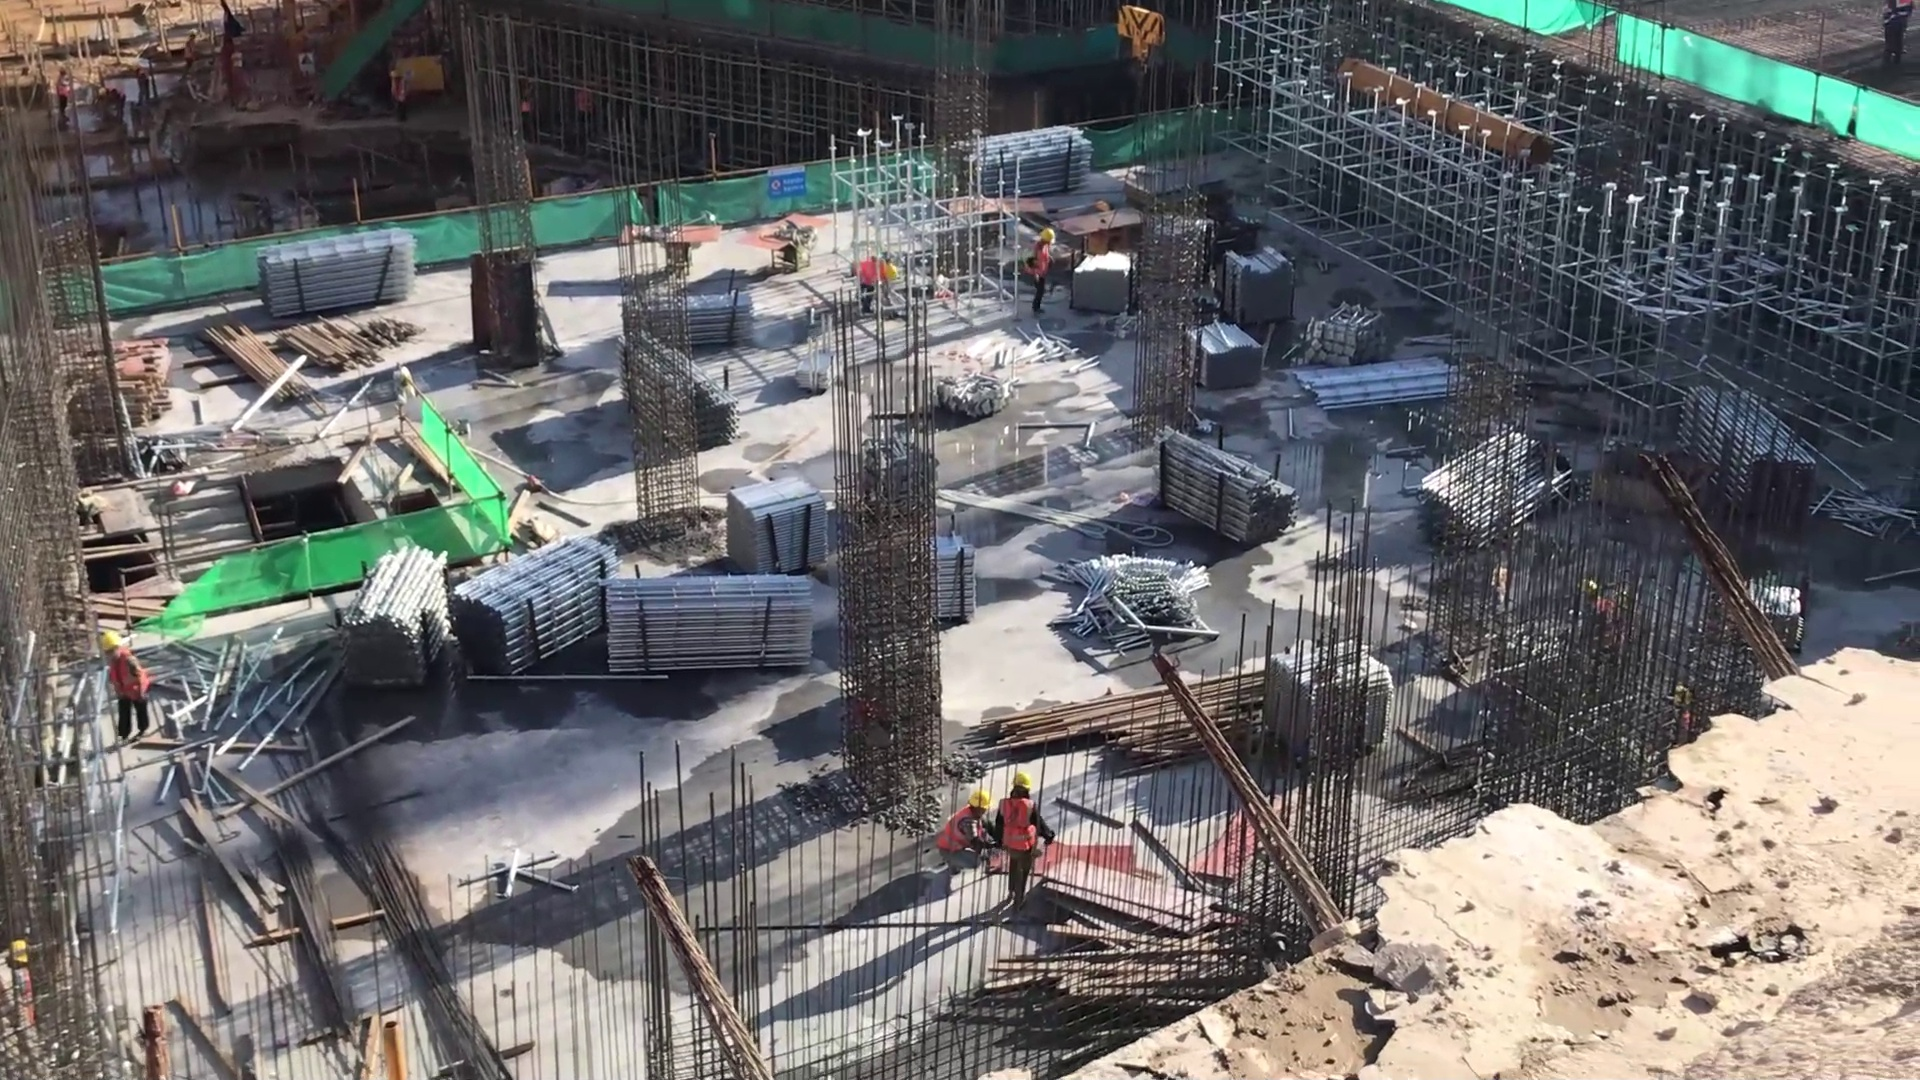cutter: (622, 213, 731, 277), (735, 206, 829, 277)
ebox: (386, 43, 457, 112)
helmet: (1032, 222, 1061, 255), (93, 627, 126, 655), (1005, 767, 1039, 795), (965, 786, 991, 811)
hook: (1103, 1, 1176, 78)
person: (989, 767, 1060, 912), (87, 626, 160, 745), (932, 787, 1000, 867), (1016, 221, 1063, 326)
scaffold: (450, 530, 627, 685), (597, 562, 823, 681), (335, 533, 466, 697), (1144, 423, 1300, 546), (256, 217, 431, 326), (713, 467, 834, 583), (974, 123, 1102, 201), (1221, 241, 1303, 330), (1189, 312, 1269, 386), (1068, 244, 1139, 320), (689, 285, 758, 349)
vest: (999, 792, 1045, 855), (104, 654, 152, 705), (935, 806, 978, 855), (1022, 238, 1052, 282)
